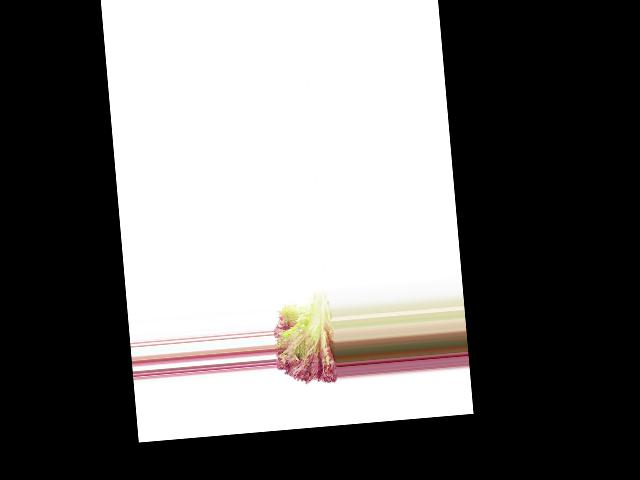lettuce: (271, 287, 338, 392)
